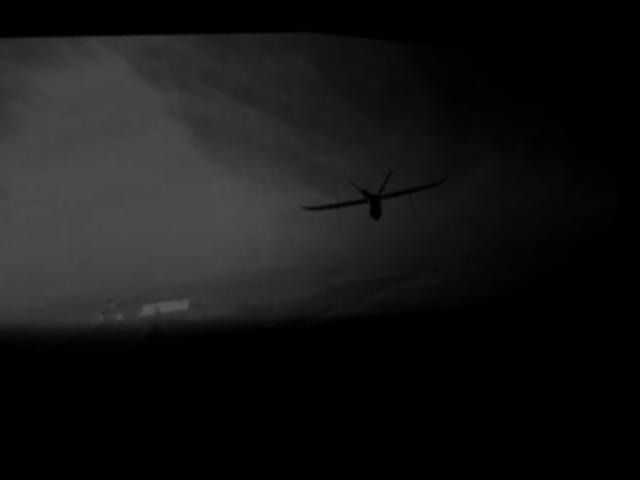hedef: (289, 136, 466, 250)
